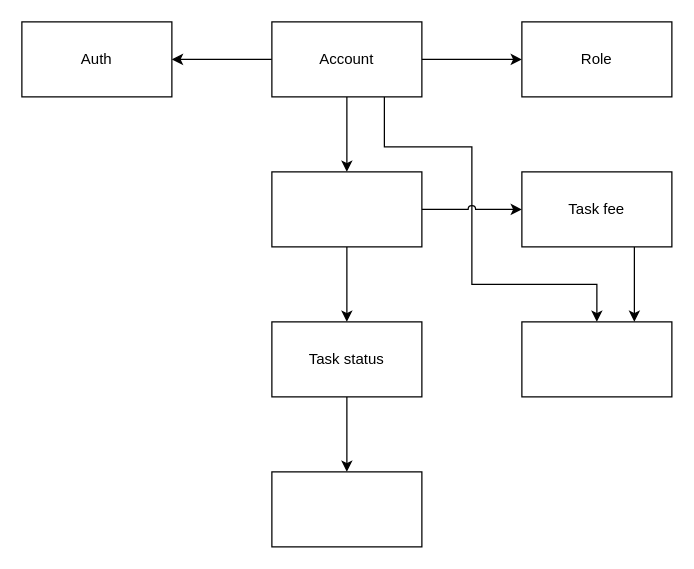
Image size: 694x569. Some labels were removed from this diagram. The shapes that lost their labels are listed below. From the top down, each one's centre as x and y in pixels, then its label:
[346,209]: Task
[596,359]: Payments audit
[346,509]: Task status audit
